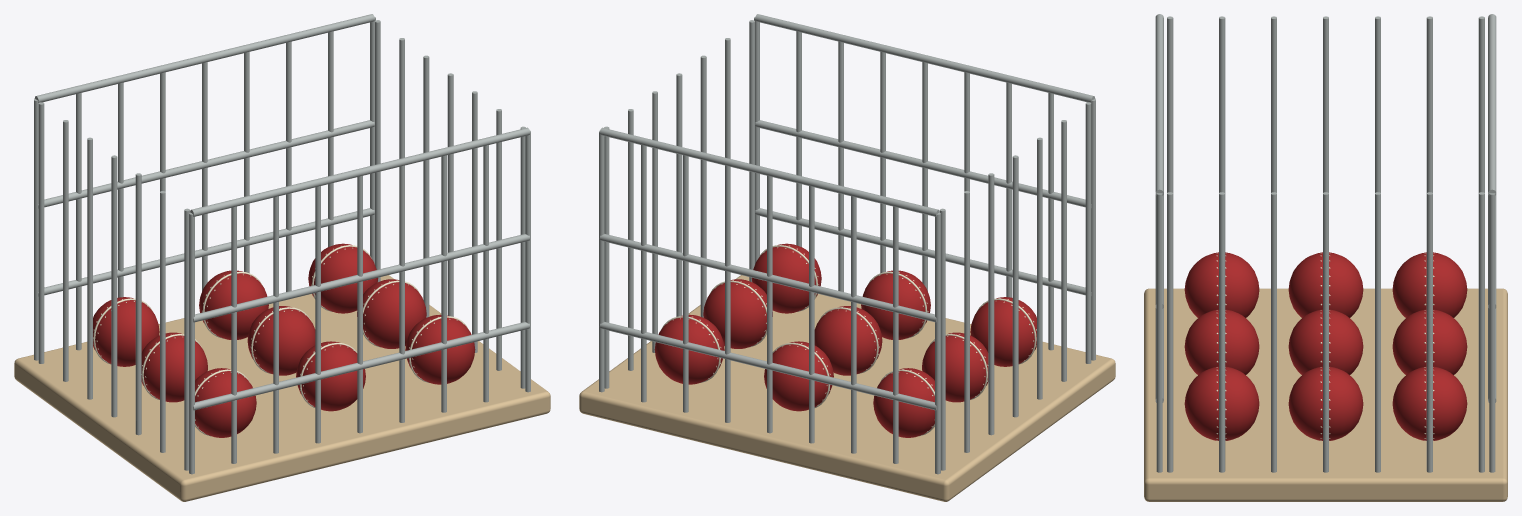
Rendered from cricket-ground-and-pavilion-training-ball-basket-7ee8789f__31347.glb.
The picture shows the model from 3 angles, left to right: view 1: azimuth 30°, elevation 25°; view 2: azimuth 150°, elevation 25°; view 3: azimuth 270°, elevation 25°; orthographic projection. The views are drawn at different scales.
Visible parts, largest first — view 1: training-ball-basket; view 2: training-ball-basket; view 3: training-ball-basket.
Boxes of the visible parts, x1,y1,x2,y2 form: training-ball-basket: (14,14,550,501); training-ball-basket: (579,14,1115,501); training-ball-basket: (1144,14,1507,501).
Bounding box in the file's own units: 0.44 × 0.324 × 0.35.
